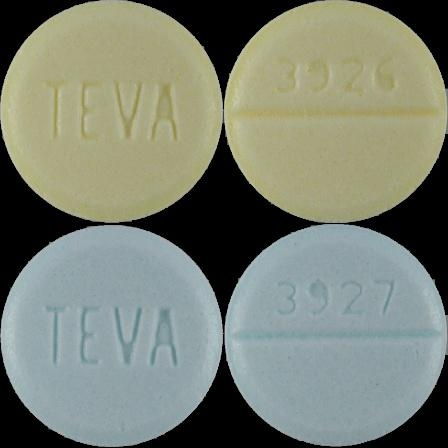0172-3926: (0, 0, 224, 224)
